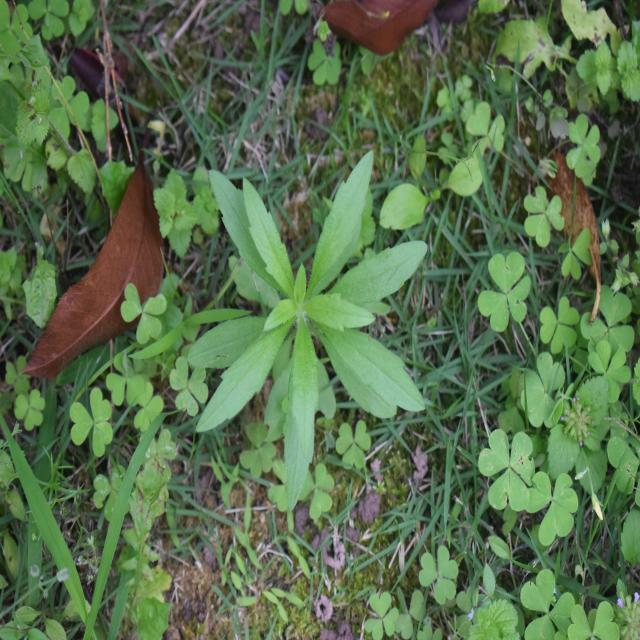horseweed: (203, 167, 431, 473)
